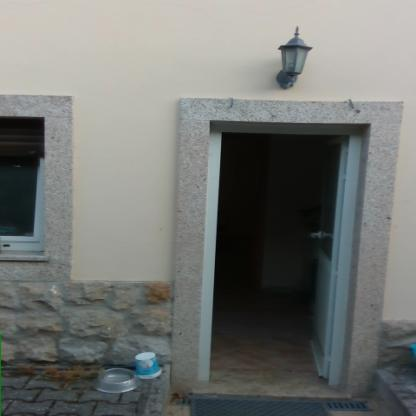open: (184, 103, 382, 403)
